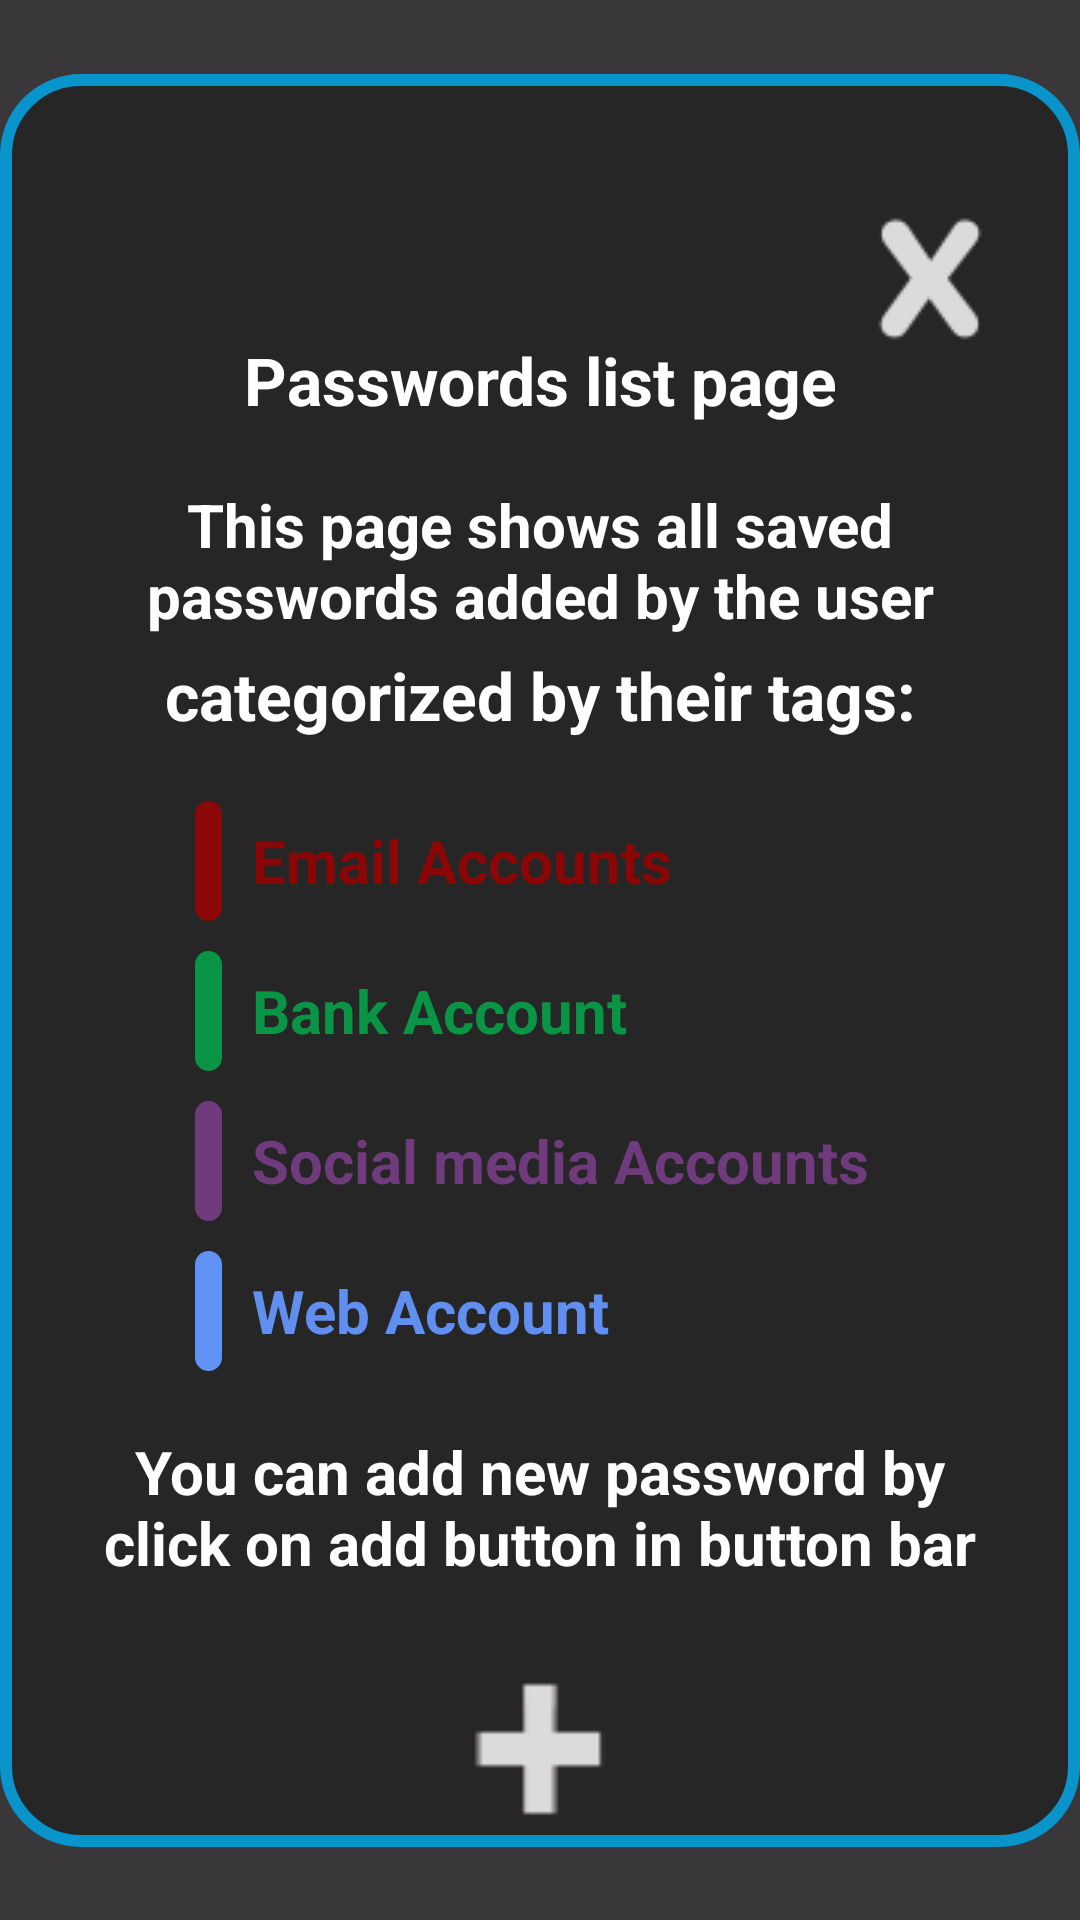

Icon bounding boxes for this 1080x1920 phone screenshot, format detection(x1, y1, x2, y2):
exit: detection(879, 218, 981, 339)
